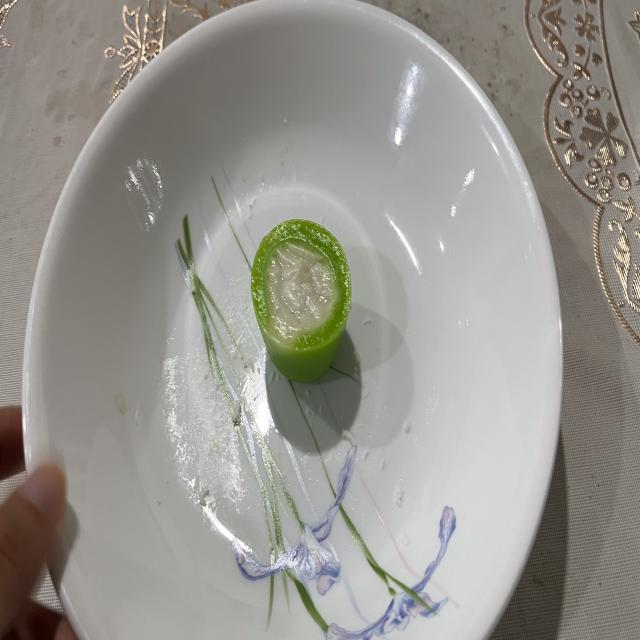nona-manis: (251, 220, 351, 382)
